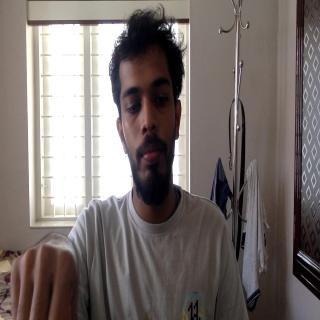Yes: (5, 223, 90, 320)
